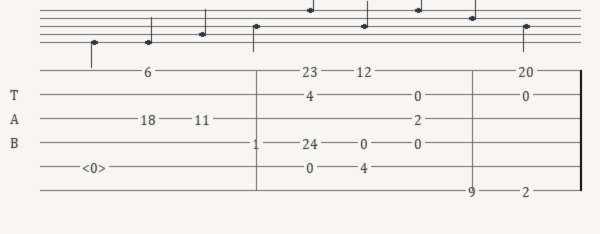0: (306, 159, 318, 173), (360, 135, 372, 149), (414, 87, 426, 101), (414, 135, 426, 149), (522, 87, 534, 101)
1: (252, 135, 264, 149)
11: (194, 111, 214, 125)
12: (356, 63, 376, 77)
18: (140, 111, 160, 125)
2: (414, 111, 426, 125), (522, 183, 534, 197)
20: (518, 63, 538, 77)
23: (302, 63, 322, 77)
24: (302, 135, 322, 149)
4: (306, 87, 318, 101), (360, 159, 372, 173)
6: (144, 63, 156, 77)
9: (468, 183, 480, 197)
harmonic: (82, 159, 110, 173)
